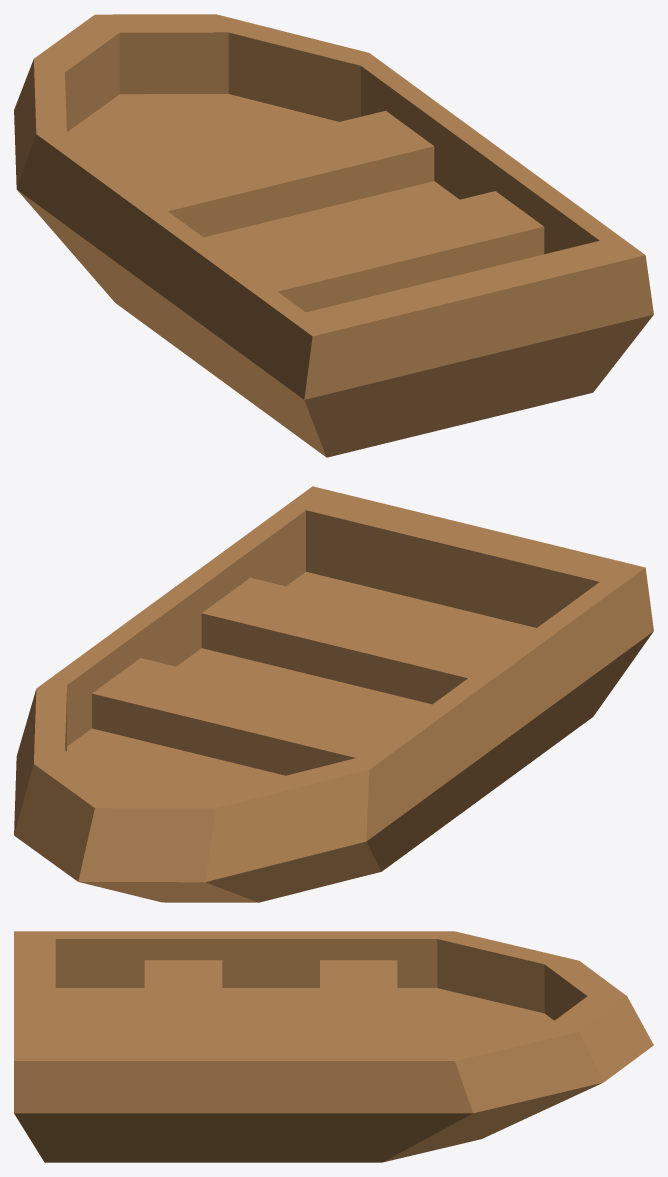
File: boat_027.fbx
3 renders of one model, top to bottom at view 1: azimuth 30°, elevation 25°; view 2: azimuth 150°, elevation 25°; view 3: azimuth 270°, elevation 25°, orthographic. The views are drawn at different scales.
Visible parts, largest first — view 1: boat_027; view 2: boat_027; view 3: boat_027.
Part boxes in pixels (<box>): boat_027: <box>14,14,653,457</box>; boat_027: <box>14,486,653,902</box>; boat_027: <box>14,931,653,1162</box>.
Size of the model in its own units: 17.85 by 7 by 35.45.
